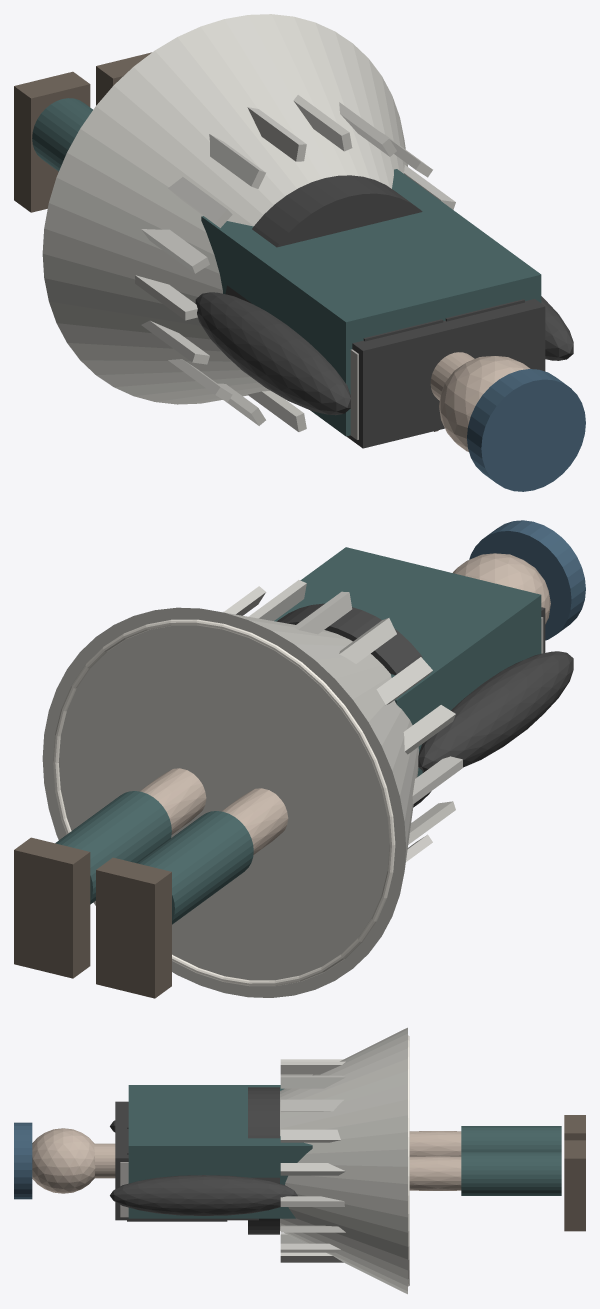
Rendered from MASTER_043_STAGE3_DETAIL.glb.
3 views of the same model, one above another, from view 1: azimuth 30°, elevation 25°; view 2: azimuth 150°, elevation 25°; view 3: azimuth 270°, elevation 25° (orthographic). The views are drawn at different scales.
Parts seen in each view (by area): view 1: slot_lower_main__fustanellë, slot_outerwear__xhokë/xhulia, slot_upper_inner__këmishë, slot_headwear__mbulesë_koke, slot_upper_inner_sleeve_L, slot_waist__brez, slot_footwear__opinga_L, mannequin_head, slot_legwear__çorape_L, slot_pleat__09, slot_pleat__06, slot_pleat__07 (+12 smaller); view 2: slot_lower_main__fustanellë, slot_outerwear__xhokë/xhulia, slot_footwear__opinga_R, slot_footwear__opinga_L, slot_upper_inner_sleeve_L, slot_legwear__çorape_L, detail_fustanella_hem, slot_headwear__mbulesë_koke, slot_legwear__çorape_R, slot_waist__brez, mannequin_head, mannequin_leg_L (+8 smaller); view 3: slot_lower_main__fustanellë, slot_outerwear__xhokë/xhulia, slot_upper_inner_sleeve_R, slot_legwear__çorape_R, mannequin_head, slot_legwear__çorape_L, slot_waist__brez, slot_footwear__opinga_R, mannequin_leg_R, slot_headwear__mbulesë_koke, slot_upper_inner__këmishë, mannequin_leg_L (+12 smaller).
Part boxes in pixels (x1,y1,x2,y2): slot_lower_main__fustanellë: (42, 14, 407, 404); slot_outerwear__xhokë/xhulia: (201, 169, 541, 436); slot_upper_inner__këmishë: (346, 299, 545, 448); slot_headwear__mbulesë_koke: (467, 369, 585, 491); slot_upper_inner_sleeve_L: (195, 292, 350, 415); slot_waist__brez: (225, 175, 422, 303); slot_footwear__opinga_L: (14, 71, 90, 212); mannequin_head: (439, 356, 530, 451); slot_legwear__çorape_L: (32, 98, 92, 171); slot_pleat__09: (141, 229, 209, 273); slot_pleat__06: (247, 107, 306, 161); slot_pleat__07: (209, 134, 265, 188); slot_lower_main__fustanellë: (42, 607, 418, 997); slot_outerwear__xhokë/xhulia: (274, 547, 541, 776); slot_footwear__opinga_R: (14, 837, 90, 978); slot_footwear__opinga_L: (96, 857, 171, 998); slot_upper_inner_sleeve_L: (418, 651, 573, 771); slot_legwear__çorape_L: (137, 811, 253, 924); detail_fustanella_hem: (53, 619, 395, 986); slot_headwear__mbulesë_koke: (469, 520, 585, 640); slot_legwear__çorape_R: (55, 791, 171, 904); slot_waist__brez: (277, 603, 431, 807); mannequin_head: (453, 553, 550, 624); mannequin_leg_L: (221, 788, 288, 854); slot_lower_main__fustanellë: (280, 1027, 407, 1294); slot_outerwear__xhokë/xhulia: (128, 1085, 312, 1218); slot_upper_inner_sleeve_R: (110, 1175, 297, 1215); slot_legwear__çorape_R: (461, 1151, 561, 1195); mannequin_head: (32, 1128, 95, 1193); slot_legwear__çorape_L: (461, 1126, 561, 1151); slot_waist__brez: (248, 1087, 279, 1234); slot_footwear__opinga_R: (564, 1140, 585, 1231); mannequin_leg_R: (409, 1156, 461, 1190); slot_headwear__mbulesë_koke: (14, 1122, 32, 1199); slot_upper_inner__këmishë: (115, 1101, 258, 1220); mannequin_leg_L: (409, 1131, 461, 1156).
Size of the model in its own units: 0.7991 by 0.7991 by 1.71.
